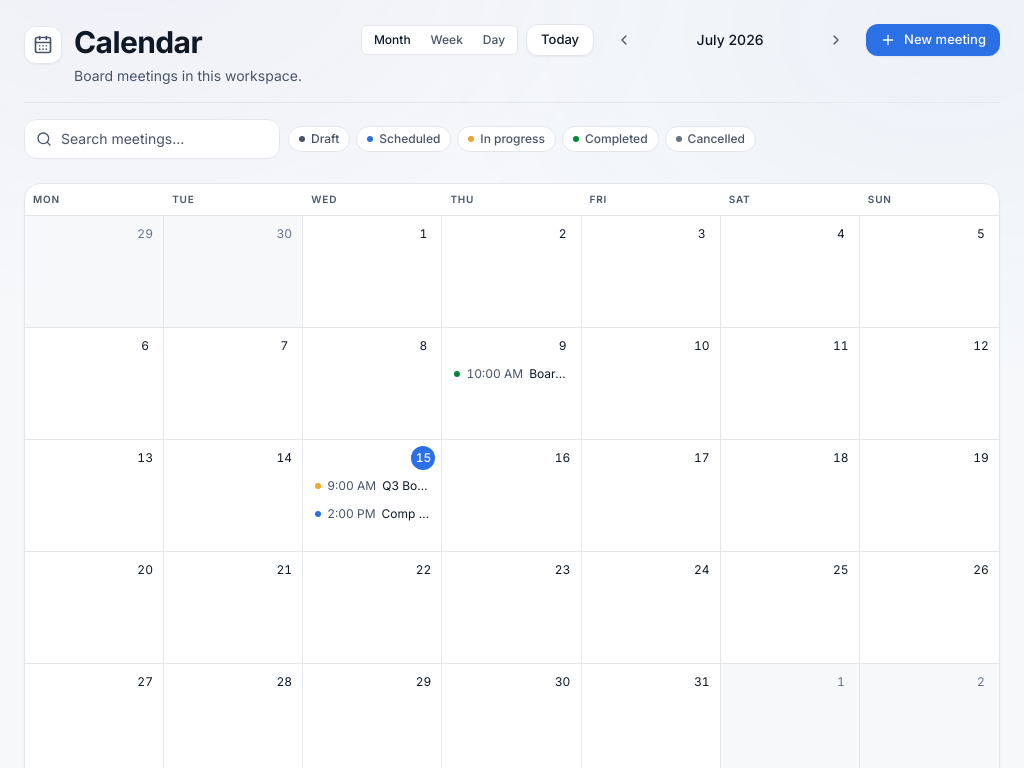
Test case: period navigation is view-aware › moves a whole month in month view
The image size is (1024, 768).
Check: the button "9:00 AM Q3 Board Meeting" is shown, box [309, 474, 435, 498]
Click the button named "Next" at (836, 40), box [814, 24, 858, 56]
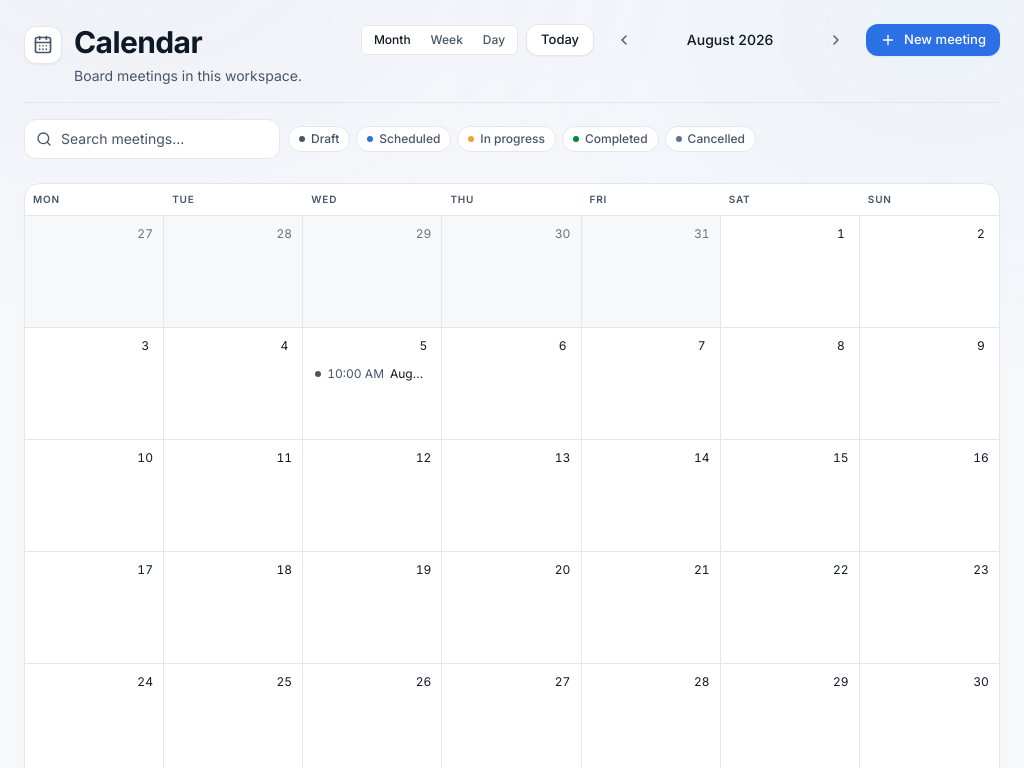
Check: the text "August 2026" is shown, box [687, 31, 773, 48]
Click the button named "Previous" at (624, 40), box [602, 24, 646, 56]
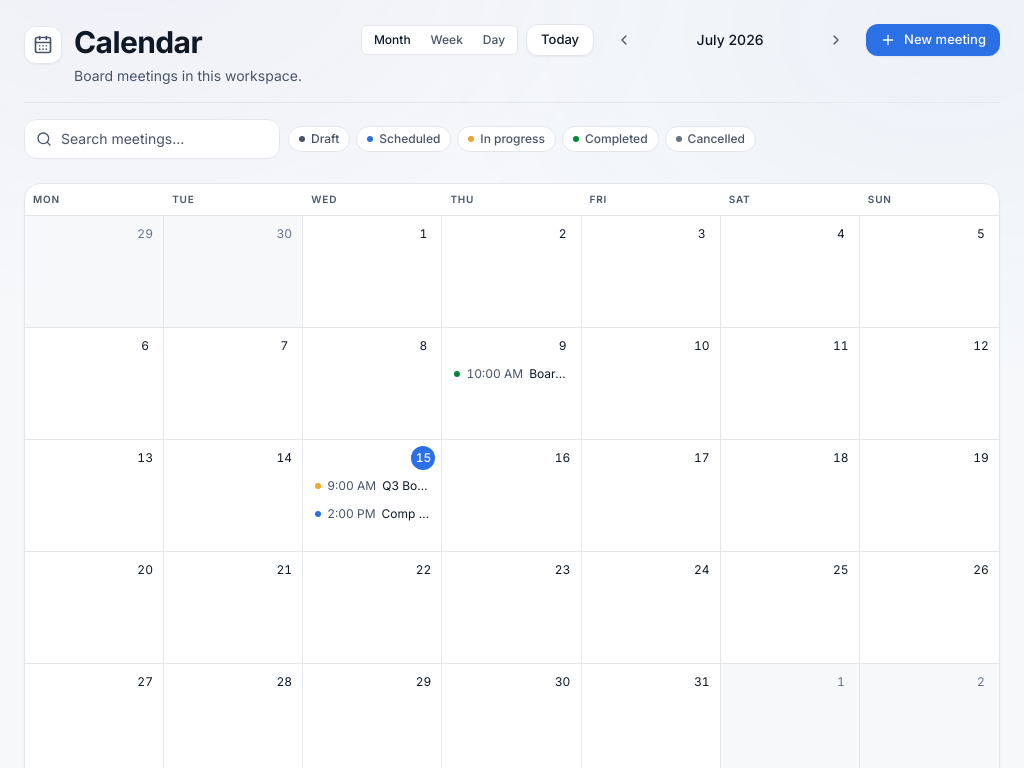
Click the button named "Previous" at (624, 40), box [602, 24, 646, 56]
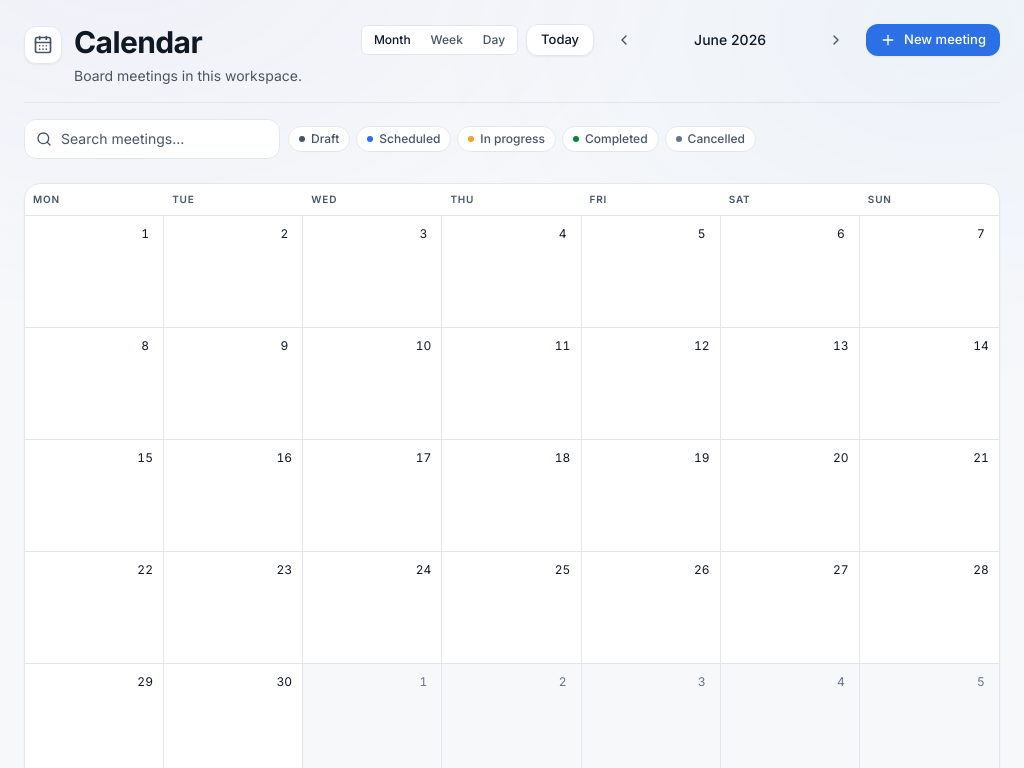
Check: the text "June 2026" is shown, box [694, 31, 766, 48]
